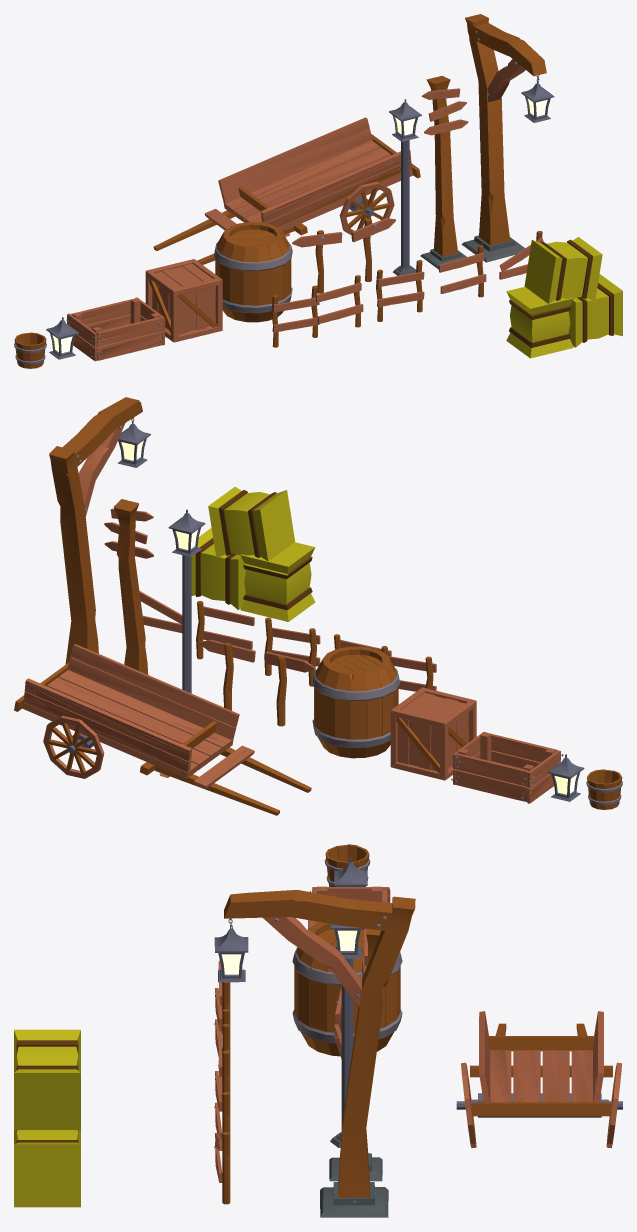
The model's file is PackOBJMedieval_01.fbx.
3 views of the same model, one above another, from view 1: azimuth 30°, elevation 25°; view 2: azimuth 150°, elevation 25°; view 3: azimuth 270°, elevation 25° (orthographic). The views are drawn at different scales.
Parts seen in each view (by area): view 1: Cube.005, PosteGrande_01.001, Barril_01, Caixote_01, CaixaAberta_02, PosteComPlacas_01.001, Cube.002, Cube, Cube.001, cercaDupla_01, Poste_01, Cerca_01 (+6 smaller); view 2: Cube.005, PosteGrande_01.001, Barril_01, Caixote_01, CaixaAberta_02, Cube.002, Cube, PosteComPlacas_01.001, Cube.001, Poste_01, Cerca_02, Cerca_01 (+6 smaller); view 3: PosteGrande_01.001, Cube.005, Cube.002, Barril_01, Cube.001, Poste_01, PosteComPlacas_01.001, Balde_01, CaixaAberta_02, Cerca_03, Cerca_01, cercaDupla_01 (+2 smaller).
Part boxes in pixels (left/top/right/bottom): Cube.005: left=153, top=117, right=420, bottom=264; PosteGrande_01.001: left=461, top=14, right=554, bottom=262; Barril_01: left=214, top=222, right=292, bottom=322; Caixote_01: left=145, top=259, right=222, bottom=342; CaixaAberta_02: left=66, top=297, right=165, bottom=361; PosteComPlacas_01.001: left=420, top=76, right=468, bottom=269; Cube.002: left=524, top=237, right=602, bottom=303; Cube: left=506, top=287, right=573, bottom=358; Cube.001: left=568, top=274, right=622, bottom=347; cercaDupla_01: left=271, top=275, right=363, bottom=347; Poste_01: left=389, top=99, right=421, bottom=275; Cerca_01: left=376, top=260, right=424, bottom=321; Cube.005: left=14, top=644, right=311, bottom=815; PosteGrande_01.001: left=49, top=397, right=150, bottom=664; Barril_01: left=312, top=646, right=399, bottom=758; Caixote_01: left=390, top=687, right=476, bottom=780; CaixaAberta_02: left=451, top=732, right=563, bottom=803; Cube.002: left=208, top=486, right=295, bottom=561; Cube: left=240, top=542, right=315, bottom=621; PosteComPlacas_01.001: left=104, top=499, right=153, bottom=674; Cube.001: left=191, top=528, right=245, bottom=609; Poste_01: left=168, top=509, right=205, bottom=693; Cerca_02: left=196, top=601, right=254, bottom=659; Cerca_01: left=264, top=617, right=320, bottom=686; PosteGrande_01.001: left=214, top=890, right=415, bottom=1217; Cube.005: left=456, top=1011, right=622, bottom=1148; Cube.002: left=14, top=1029, right=80, bottom=1130; Barril_01: left=292, top=922, right=402, bottom=1056; Cube.001: left=14, top=1130, right=80, bottom=1207; Poste_01: left=330, top=924, right=364, bottom=1147; PosteComPlacas_01.001: left=329, top=928, right=382, bottom=1181; Balde_01: left=324, top=844, right=370, bottom=886; CaixaAberta_02: left=310, top=886, right=390, bottom=902; Cerca_03: left=214, top=1132, right=230, bottom=1204; Cerca_01: left=218, top=1023, right=230, bottom=1100; cercaDupla_01: left=214, top=960, right=230, bottom=1057.
Size of the model in its own units: 4391 by 1868 by 3321.
